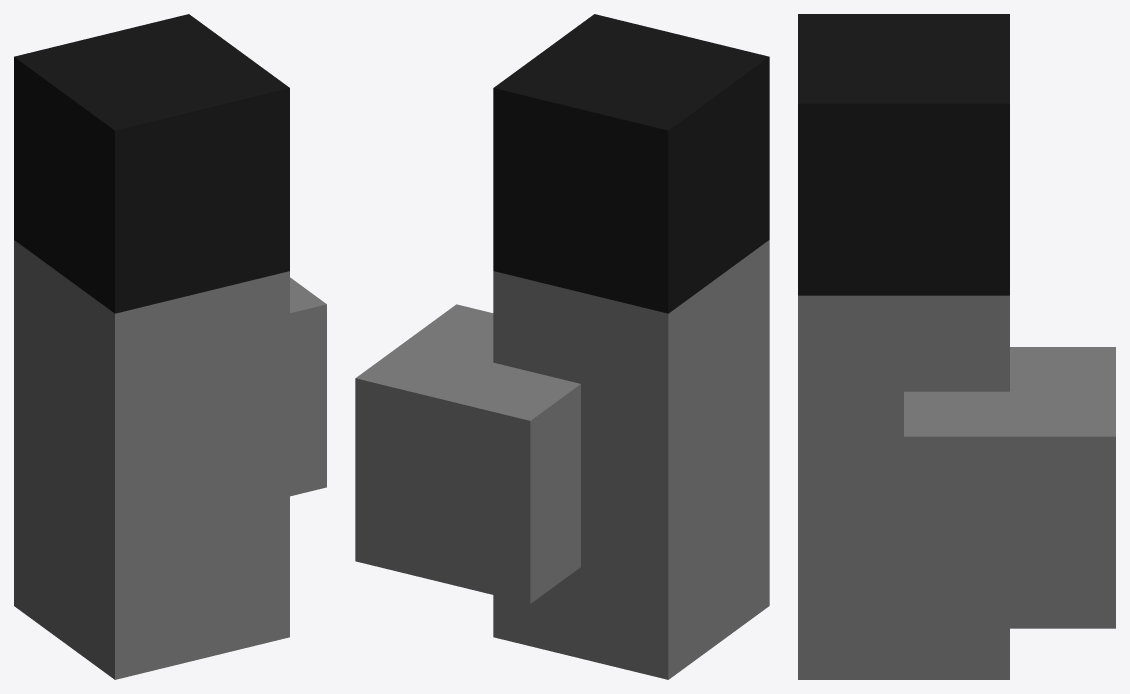
Rendered from torch.obj.
The picture shows the model from 3 angles, left to right: view 1: azimuth 30°, elevation 25°; view 2: azimuth 150°, elevation 25°; view 3: azimuth 270°, elevation 25°; orthographic projection. The views are drawn at different scales.
Bounding box in the file's own units: 0.3 × 0.6 × 0.3.
Materials: 1 (1 with a texture image).
